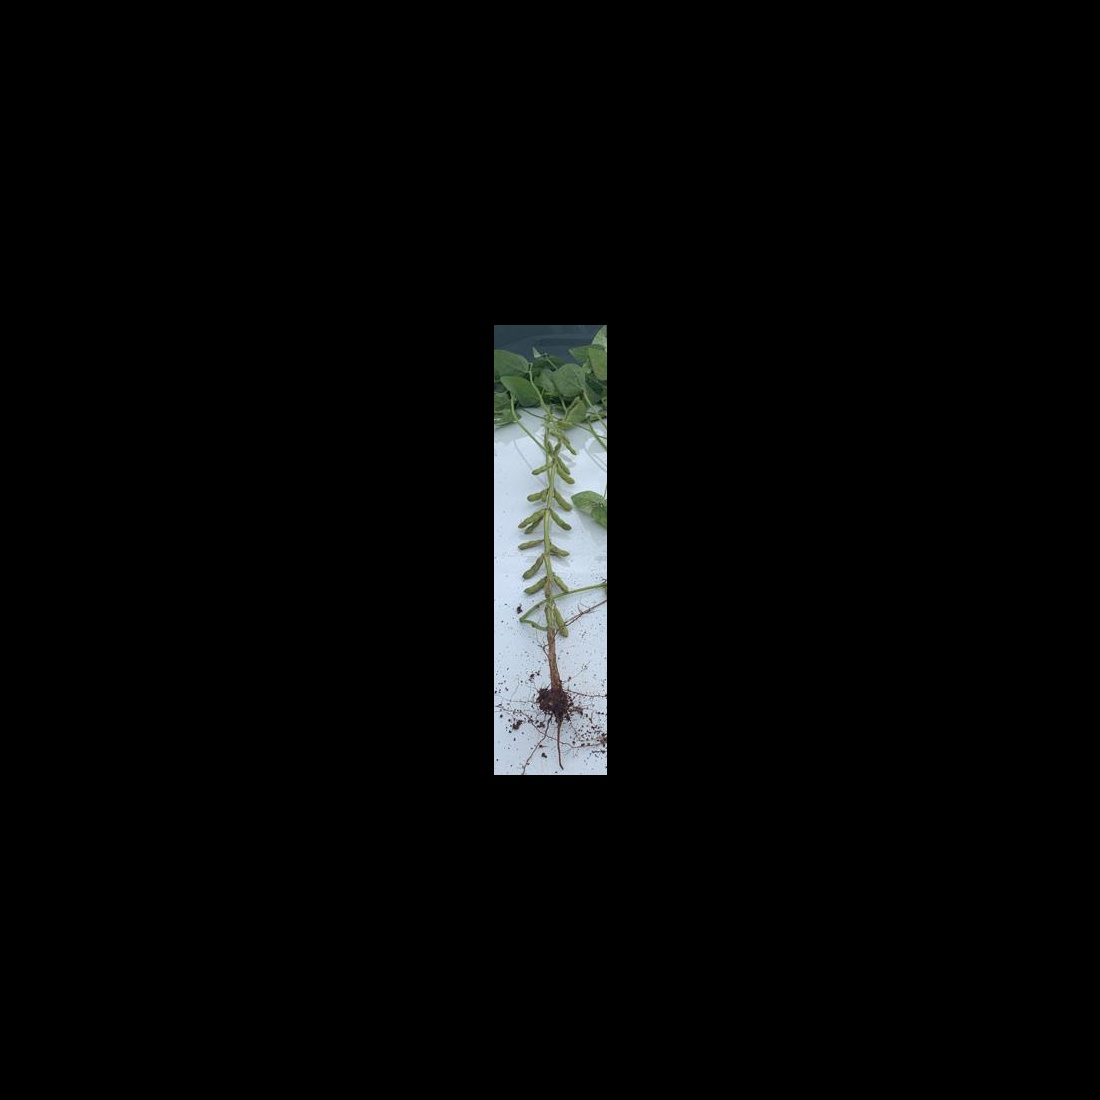pod: (521, 553, 546, 579), (548, 508, 573, 533), (517, 507, 544, 528), (554, 609, 572, 638), (554, 461, 574, 486), (551, 573, 571, 595), (512, 540, 546, 552), (524, 579, 545, 597), (549, 544, 573, 558), (524, 488, 545, 501), (532, 461, 547, 475)
soy: (501, 356, 602, 724)
